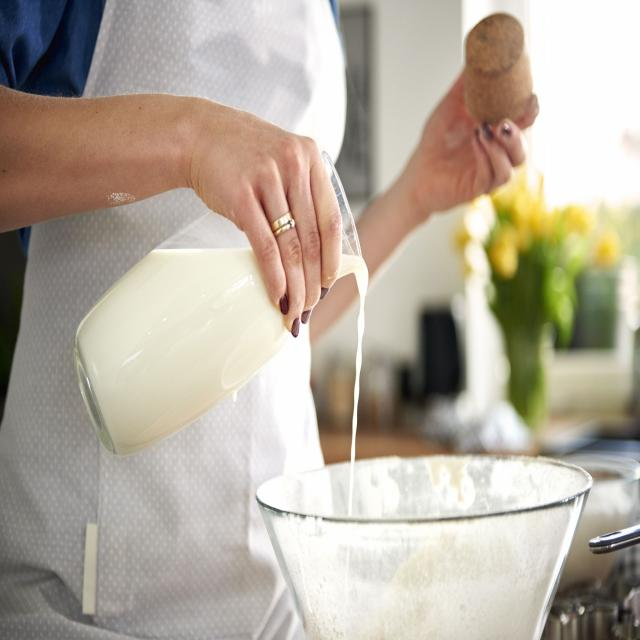Milk carton/jug: (80, 236, 285, 461)
